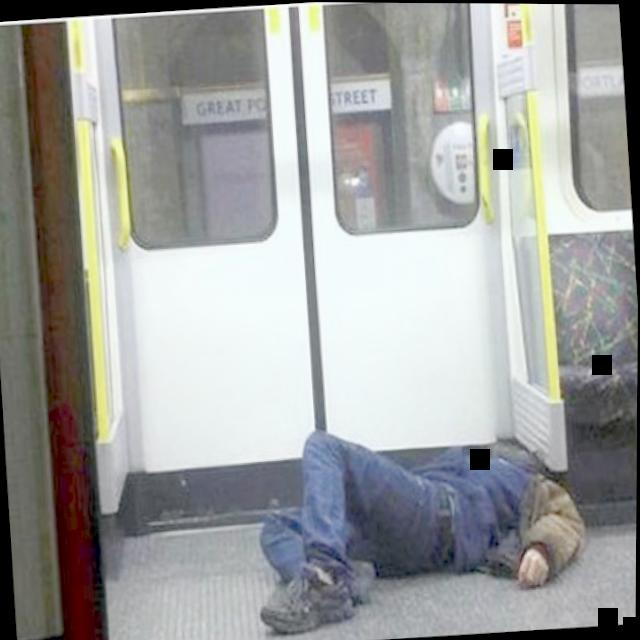Fall-Detected: (230, 401, 601, 637)
